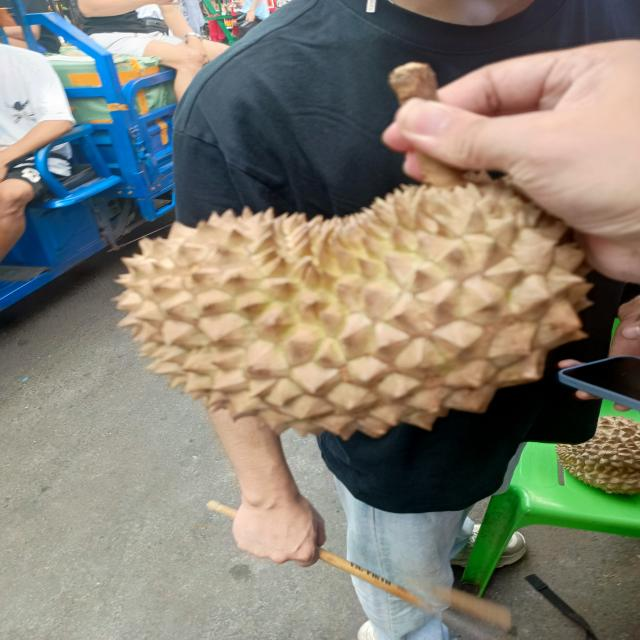mature: (110, 181, 596, 441)
